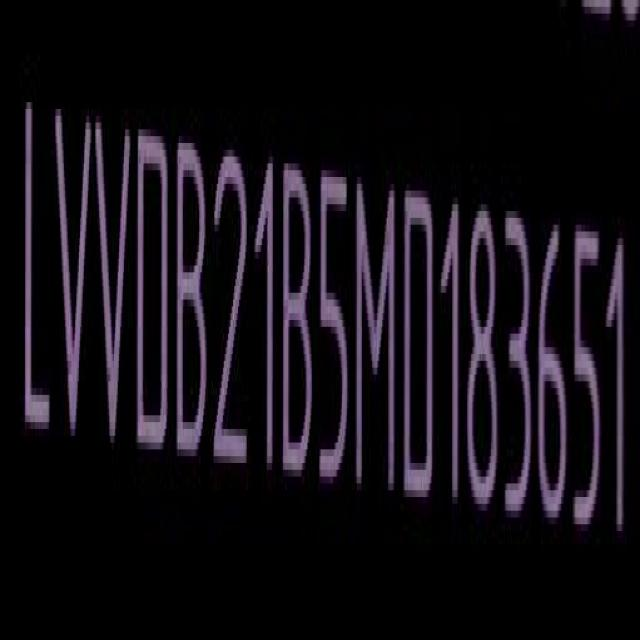1: (258, 151, 278, 477), (610, 226, 630, 549), (440, 188, 460, 506)
2: (213, 151, 250, 476)
3: (505, 203, 533, 524)
5: (318, 160, 352, 489), (573, 218, 602, 533)
6: (538, 219, 570, 533)
8: (466, 201, 499, 513)
B: (178, 138, 212, 466), (284, 162, 317, 485)
D: (134, 120, 170, 460), (406, 179, 436, 500)
L: (20, 96, 52, 448)
M: (358, 167, 401, 495)
V: (53, 102, 92, 447), (96, 107, 132, 450)
